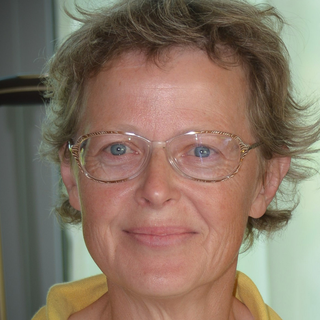eye: (177, 141, 223, 165), (97, 140, 142, 163)
